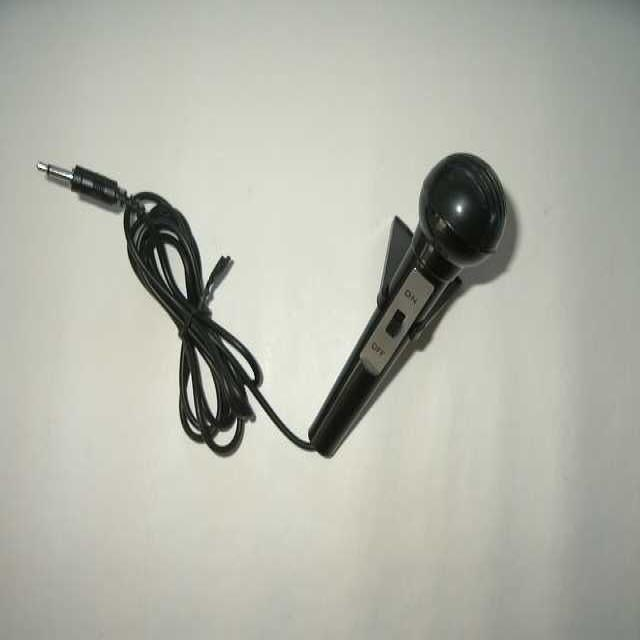microphone: (300, 136, 526, 461)
